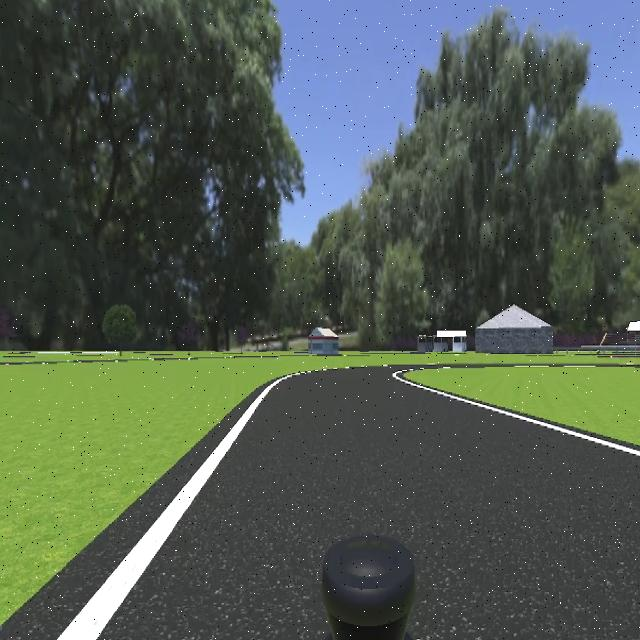road: (97, 368, 640, 640)
solid_line: (55, 377, 288, 640), (394, 375, 640, 459)
